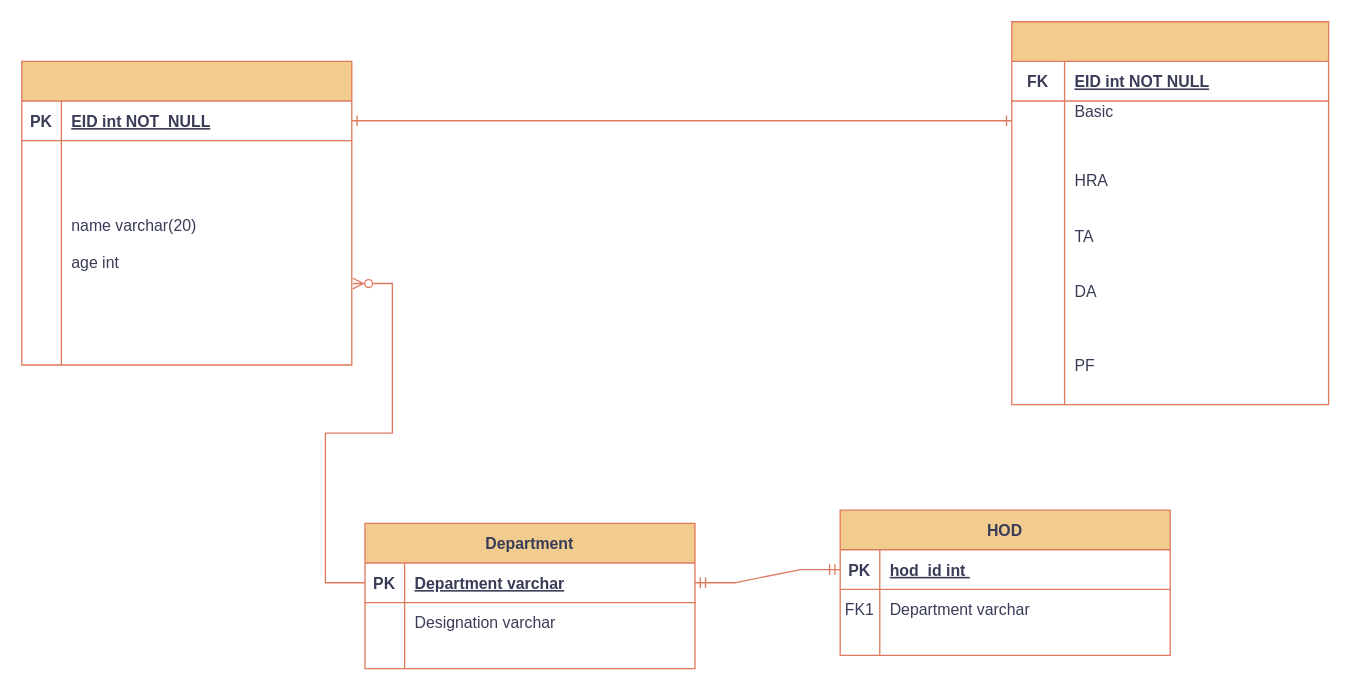
This 1350x690 diagram has some shape labels left out. The box of each missing label's shape, as (x1, y1, x2, y2) in pixels:
Employee: (20, 60, 352, 365)
Salary: (1010, 20, 1329, 405)
